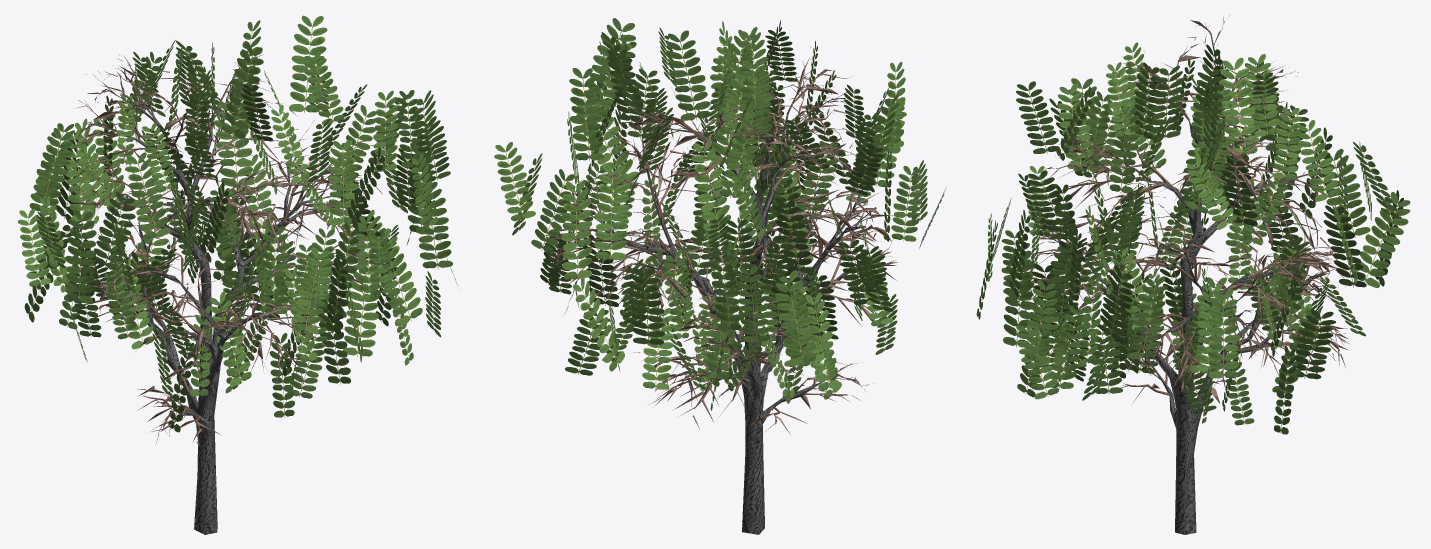
The model's file is locust.glb.
3 views of the same model, side by side, from view 1: azimuth 30°, elevation 25°; view 2: azimuth 150°, elevation 25°; view 3: azimuth 270°, elevation 25° (orthographic).
Visible parts, largest first — view 1: Gleditsia_triacanthos_v02_m01; view 2: Gleditsia_triacanthos_v02_m01; view 3: Gleditsia_triacanthos_v02_m01.
Boxes of the visible parts, bbox=[...] form: Gleditsia_triacanthos_v02_m01: bbox=[18, 15, 457, 534]; Gleditsia_triacanthos_v02_m01: bbox=[494, 18, 946, 534]; Gleditsia_triacanthos_v02_m01: bbox=[976, 15, 1410, 534].
Size of the model in its own units: 5.22 by 6.52 by 5.32.
3 materials, 3 textured.
